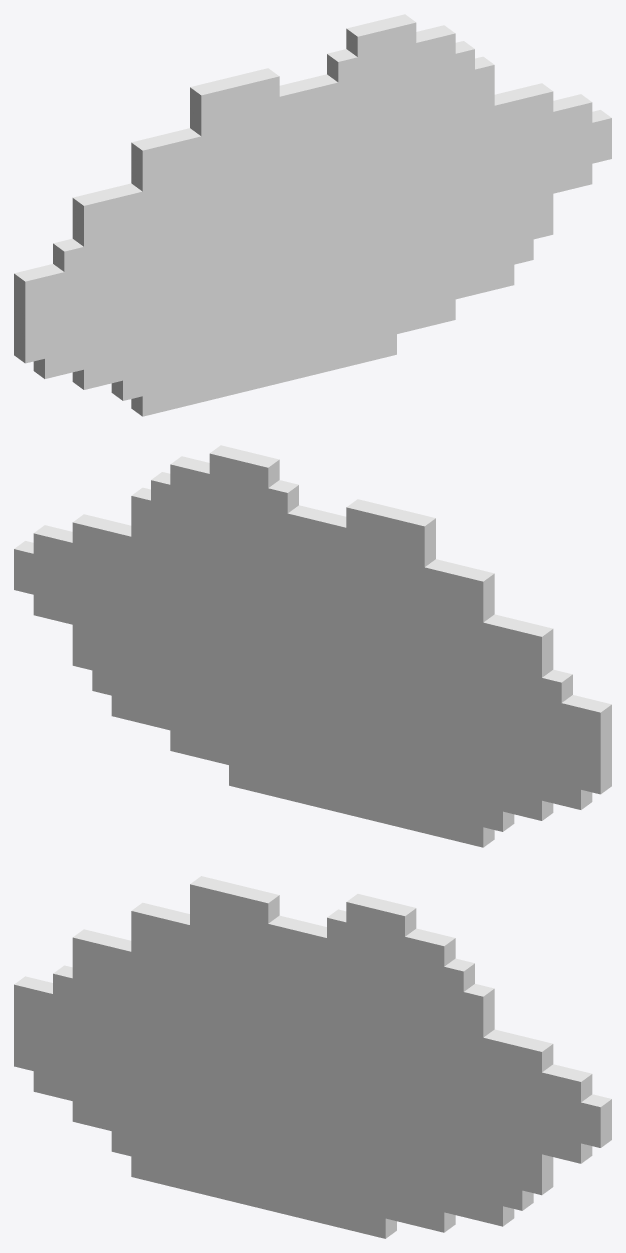
The model's file is cloud_3.obj.
The picture shows the model from 3 angles, top to bottom: view 1: azimuth 30°, elevation 25°; view 2: azimuth 150°, elevation 25°; view 3: azimuth 330°, elevation 25°; orthographic projection.
Visible parts, largest first — view 1: cloud_3; view 2: cloud_3; view 3: cloud_3.
Part boxes in pixels (<box>): cloud_3: <box>14,14,611,416</box>; cloud_3: <box>14,445,611,847</box>; cloud_3: <box>14,876,611,1238</box>.
Size of the model in its own units: 30 by 16 by 1.
Materials: 1 (1 with a texture image).
